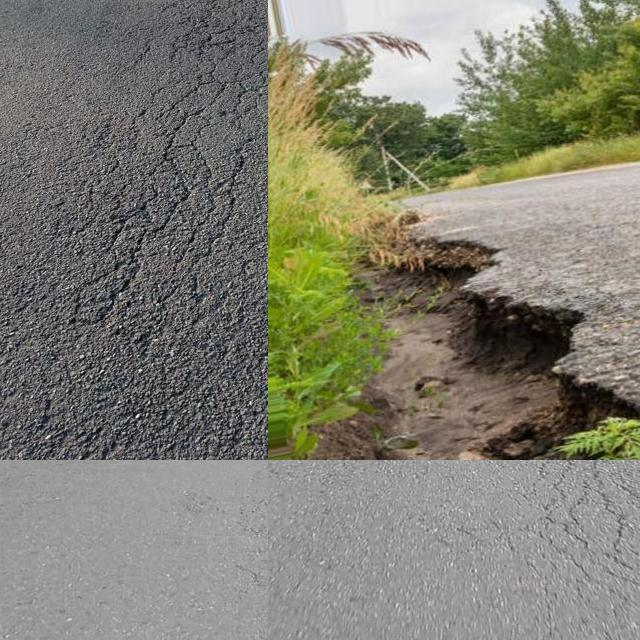Pinggir: (384, 230, 640, 460)
Retak Buaya: (40, 0, 268, 318)
